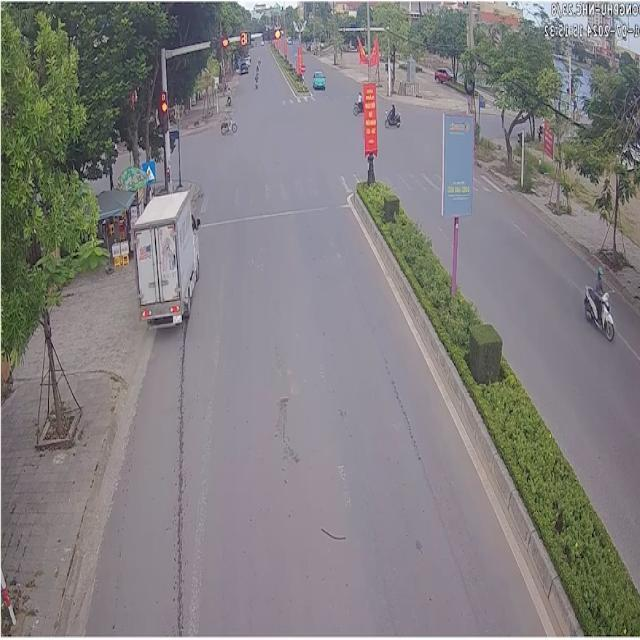car: (130, 189, 198, 323), (310, 68, 323, 88)
motobike: (582, 283, 614, 338), (219, 106, 236, 133), (383, 101, 399, 125), (350, 90, 362, 113)
red_light: (262, 23, 280, 43), (159, 92, 167, 136), (209, 36, 229, 49), (238, 31, 250, 46)
stop_line: (199, 203, 346, 225)
